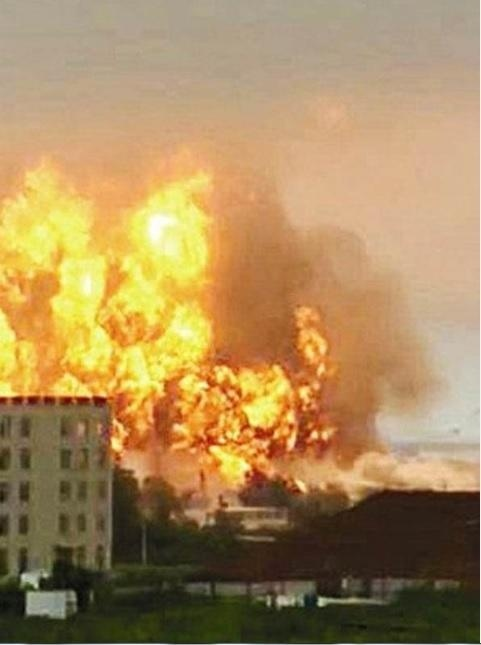fire: (2, 151, 328, 484)
